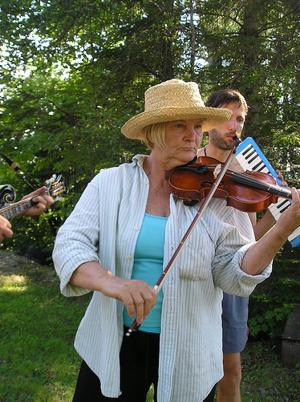person: (51, 79, 300, 401)
